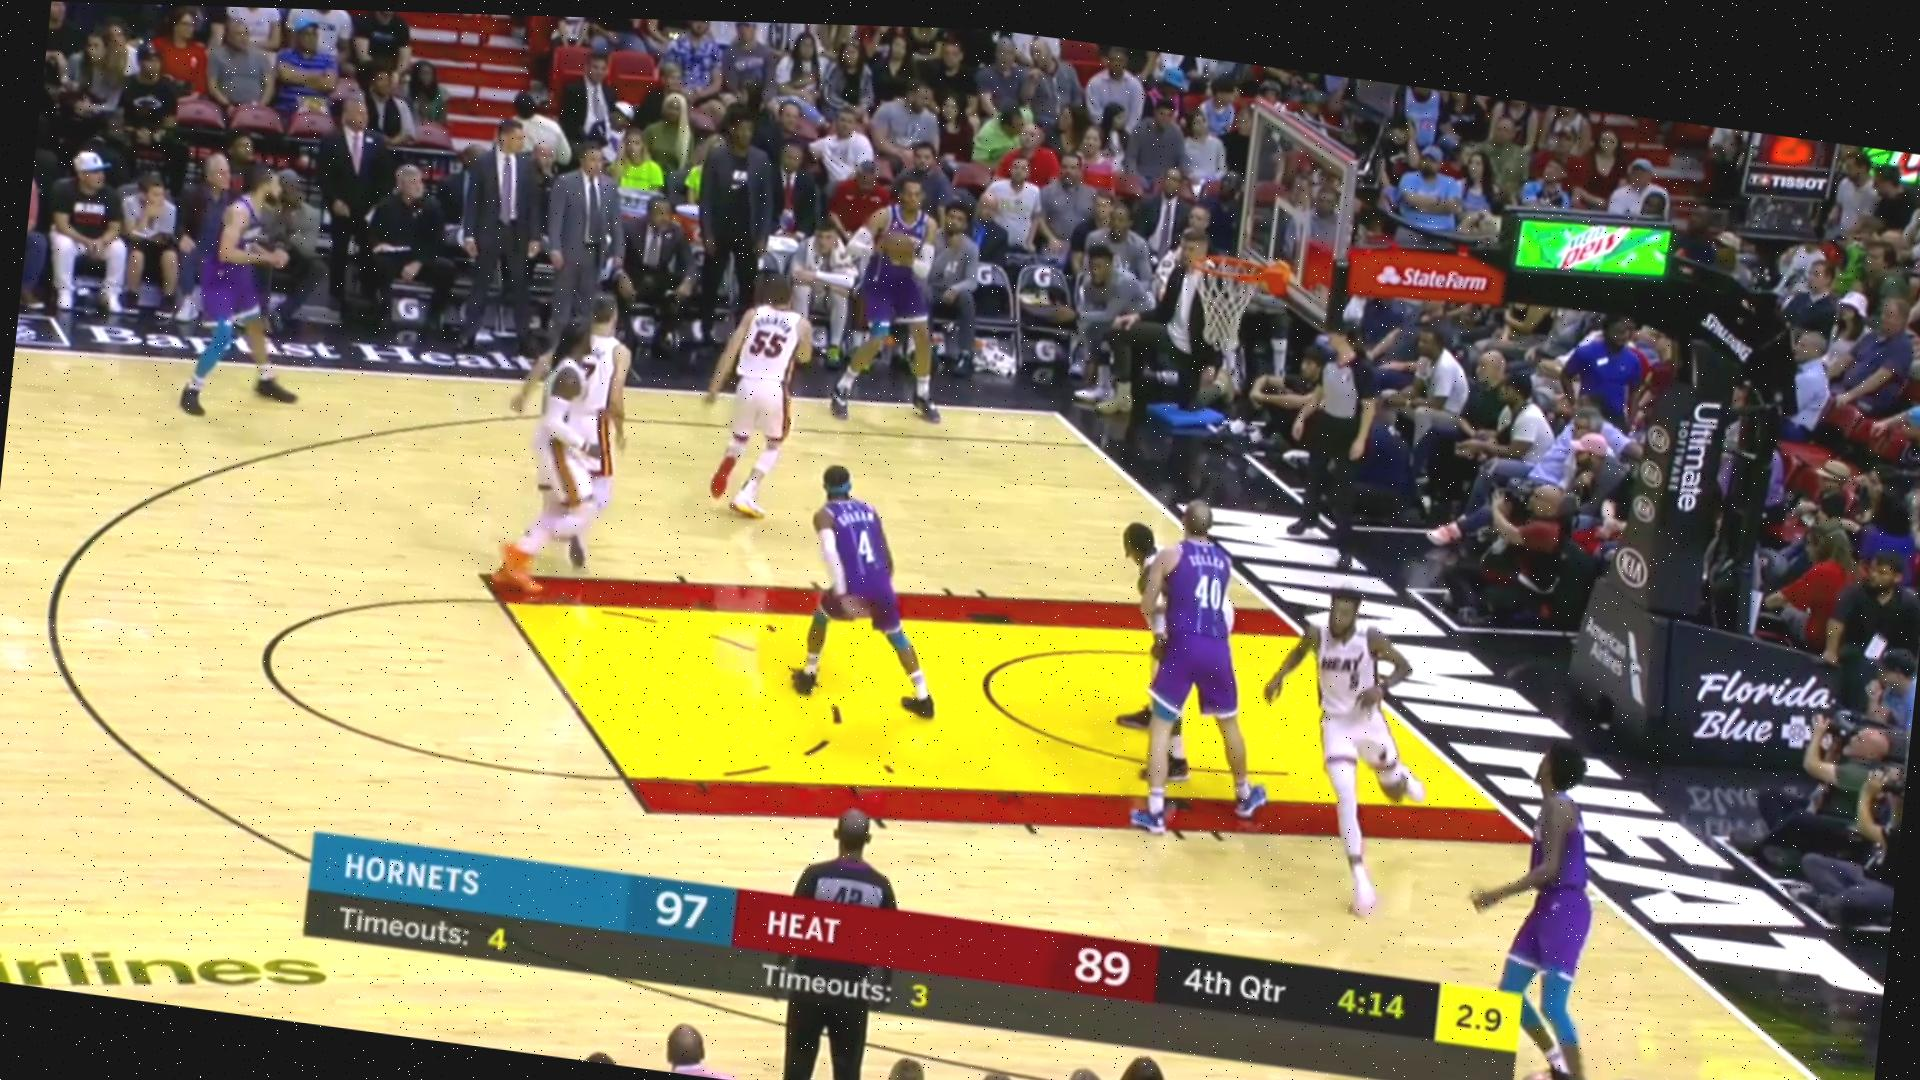no_foul: (1076, 477, 1287, 852)
